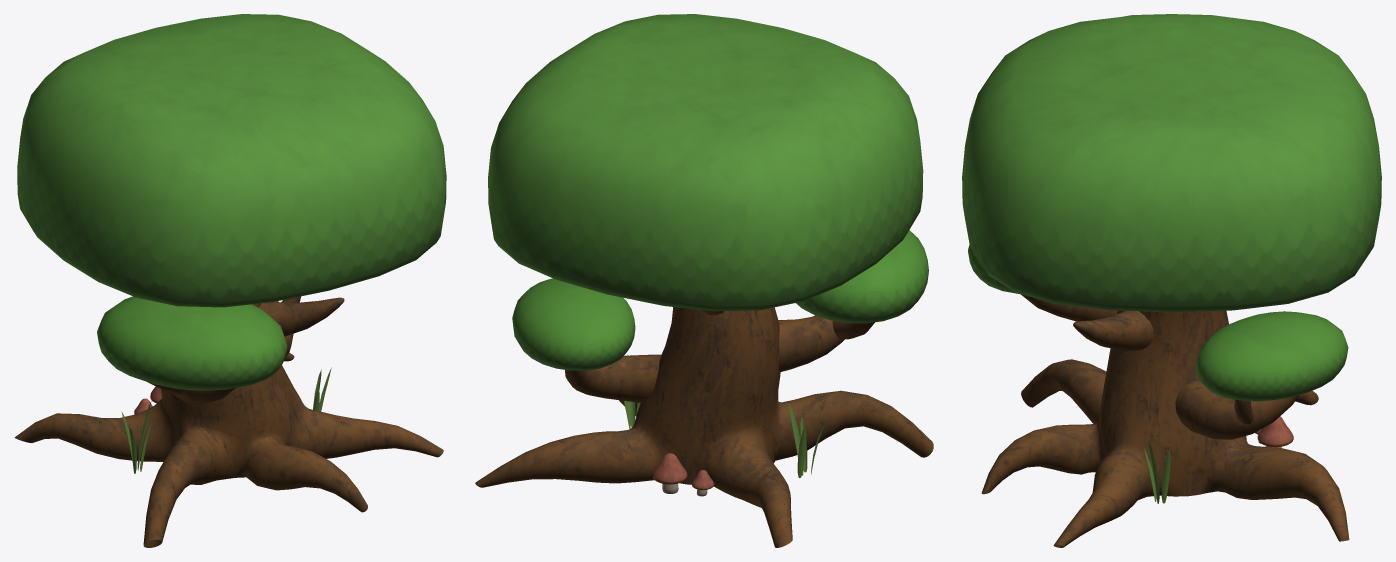
File: Tree.fbx
3 renders of one model, left to right at view 1: azimuth 30°, elevation 25°; view 2: azimuth 150°, elevation 25°; view 3: azimuth 270°, elevation 25°, orthographic. The views are drawn at different scales.
Parts seen in each view (by area): view 1: Tree; view 2: Tree; view 3: Tree.
Part boxes in pixels (bbox=[...]): Tree: bbox=[14, 14, 446, 547]; Tree: bbox=[475, 14, 933, 547]; Tree: bbox=[962, 14, 1381, 547].
Bounding box in the file's own units: 96.88 × 104 × 96.88.
